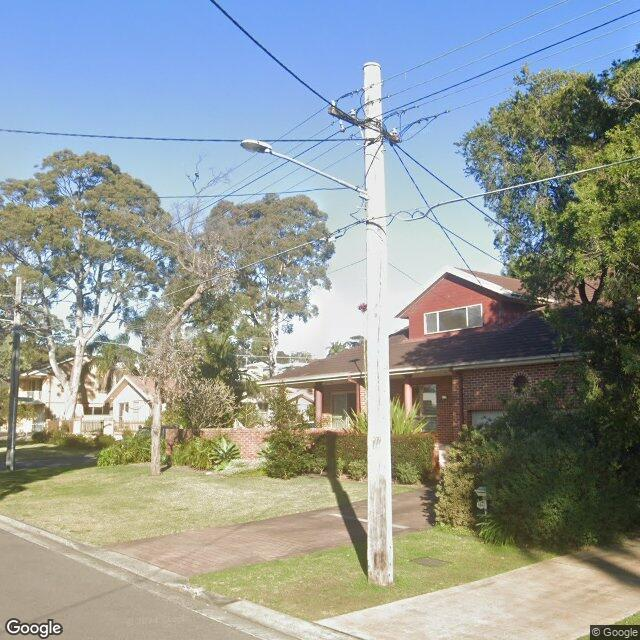crossarm: (328, 108, 402, 146)
streetlight: (241, 139, 370, 203)
timber-pole: (363, 63, 393, 584), (5, 276, 22, 474)
